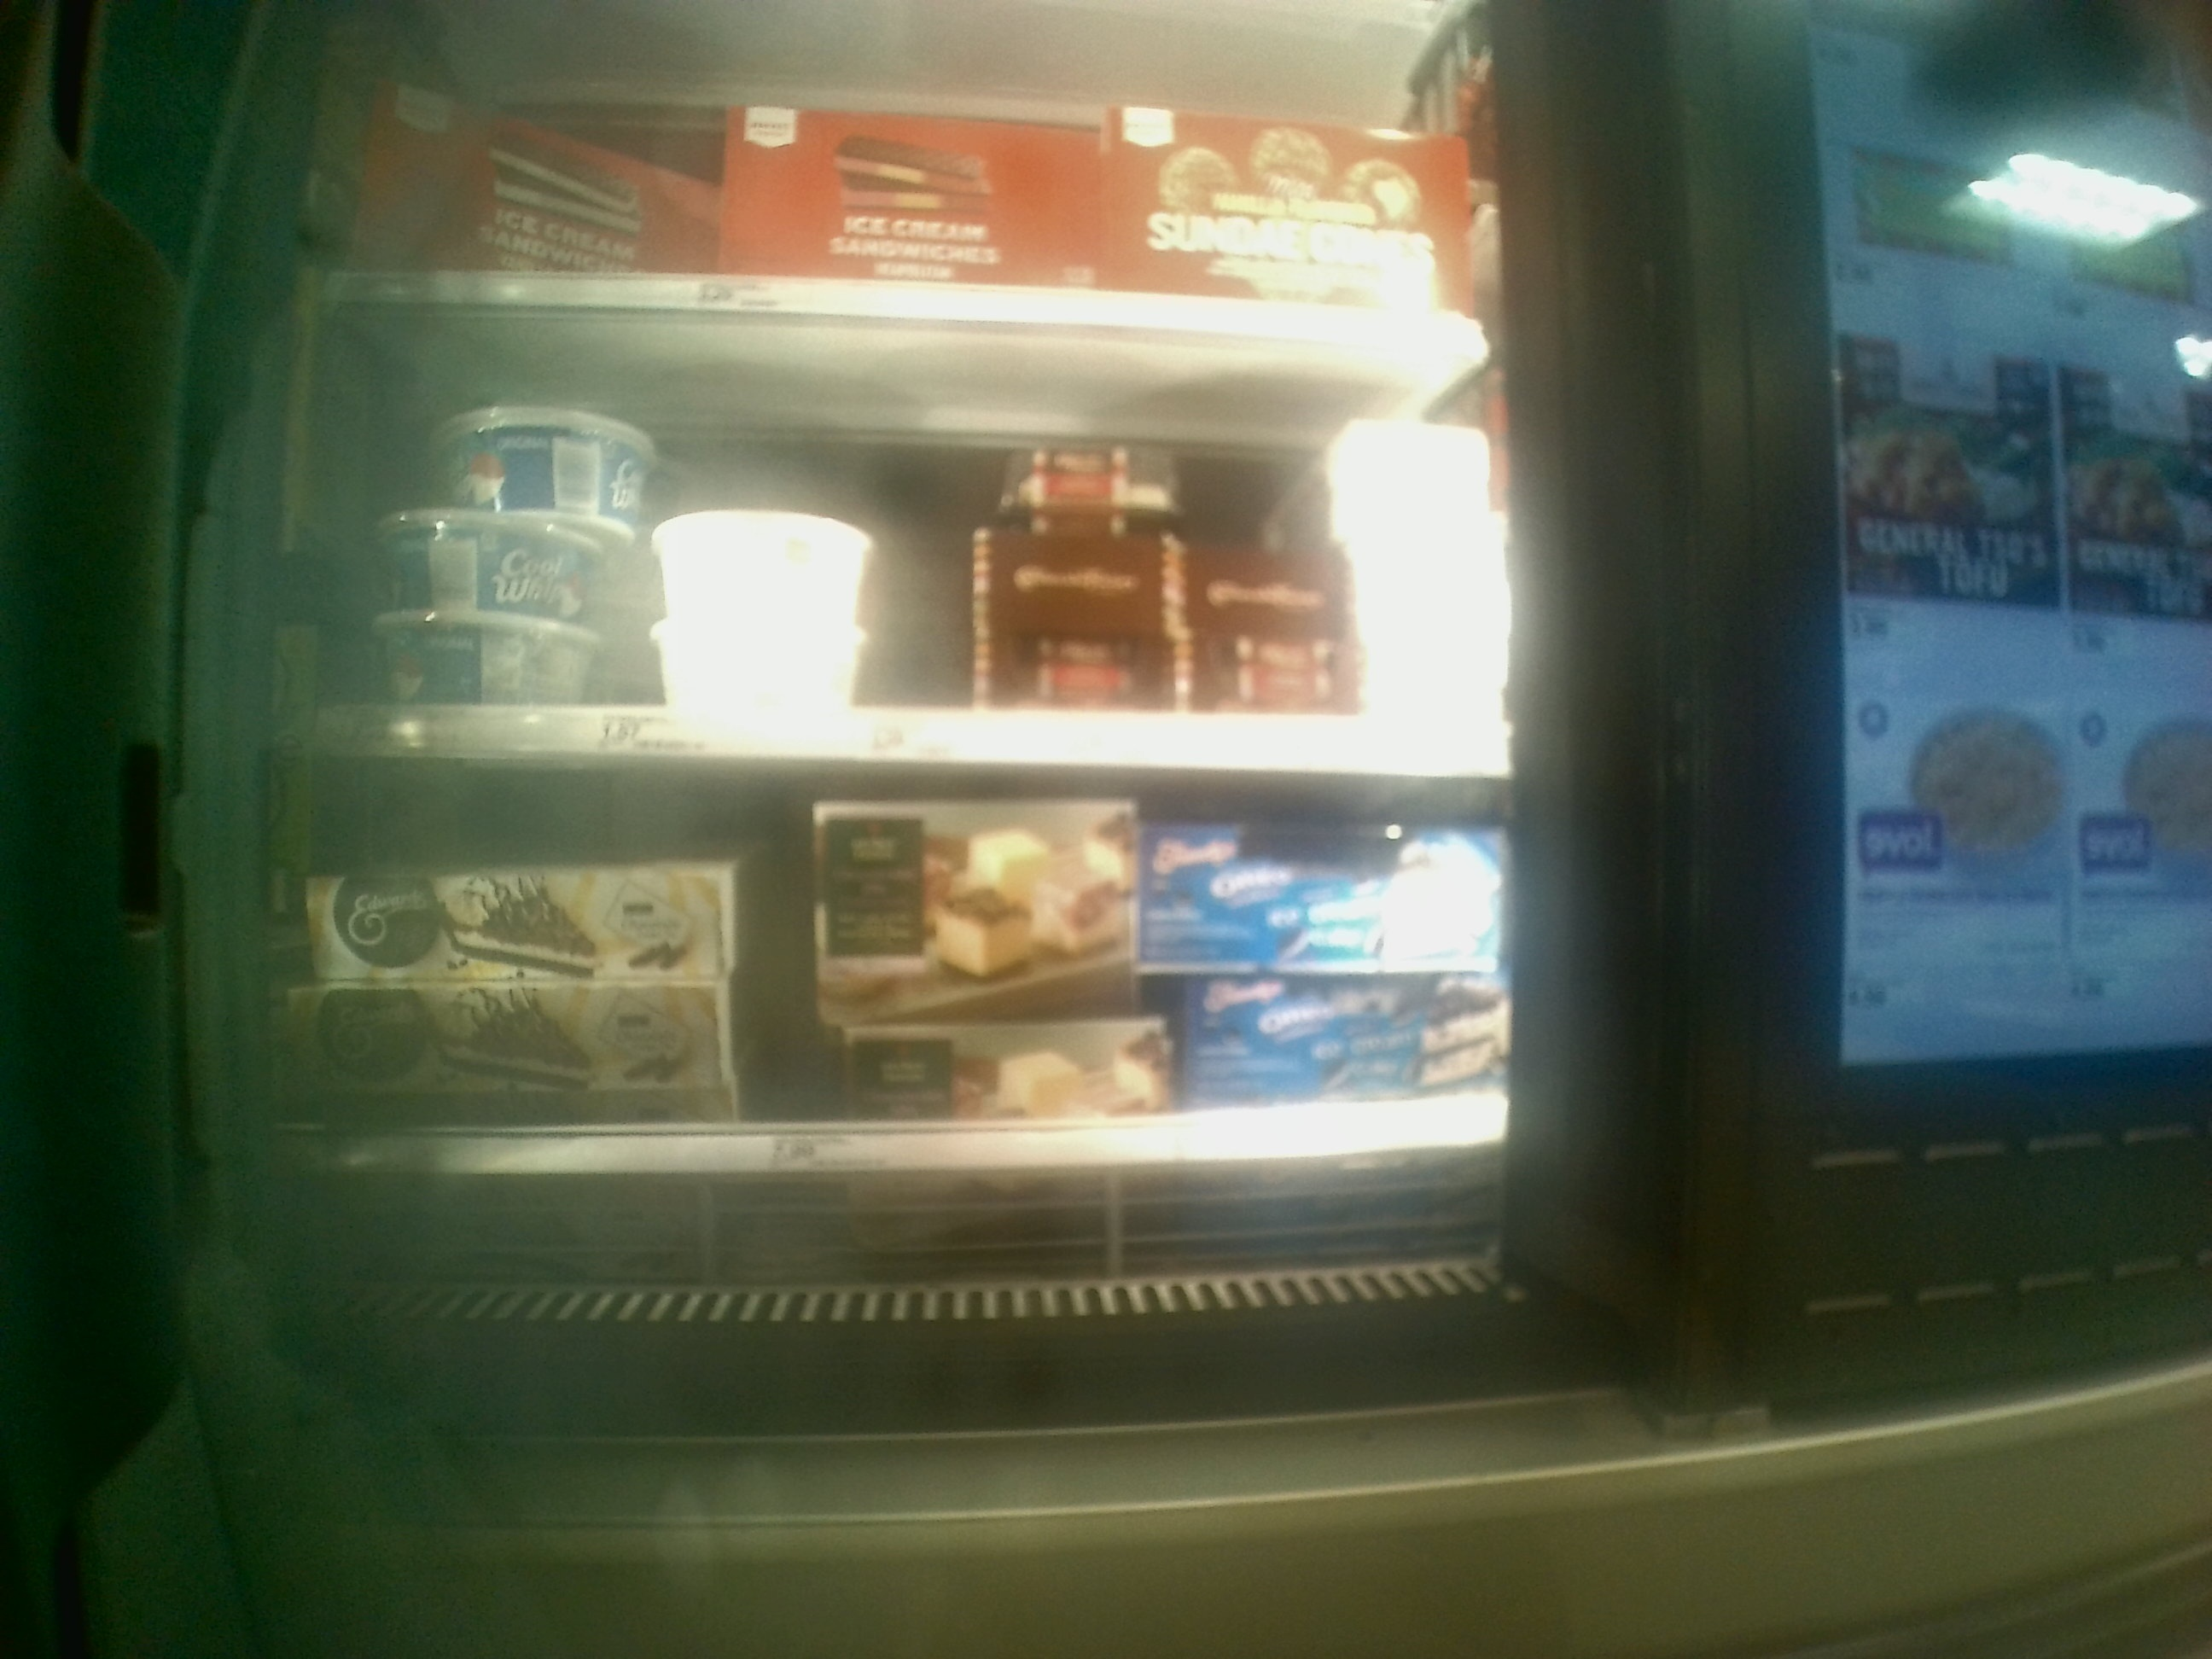shelf: (279, 315, 1531, 782), (275, 782, 1533, 1173)
